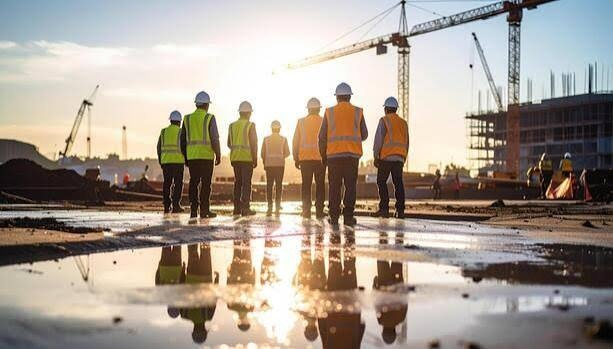crane: (263, 9, 538, 206), (55, 78, 116, 170)
hardhat: (332, 82, 356, 98), (302, 91, 323, 108), (233, 99, 255, 115), (191, 91, 214, 105), (380, 95, 402, 109), (165, 109, 185, 121), (268, 118, 282, 130), (562, 153, 575, 158)
no_hardhat: (540, 152, 550, 159)
person: (320, 81, 369, 230), (376, 91, 424, 231), (183, 89, 222, 222), (294, 89, 327, 225), (222, 95, 258, 219), (151, 103, 188, 217), (261, 115, 294, 225), (532, 149, 554, 188), (557, 151, 577, 186)
safety_vest: (326, 104, 364, 161), (379, 112, 415, 164), (184, 112, 215, 160), (227, 117, 256, 165), (158, 125, 183, 169), (297, 114, 317, 163), (262, 131, 288, 168), (559, 158, 569, 176), (540, 159, 549, 172)
